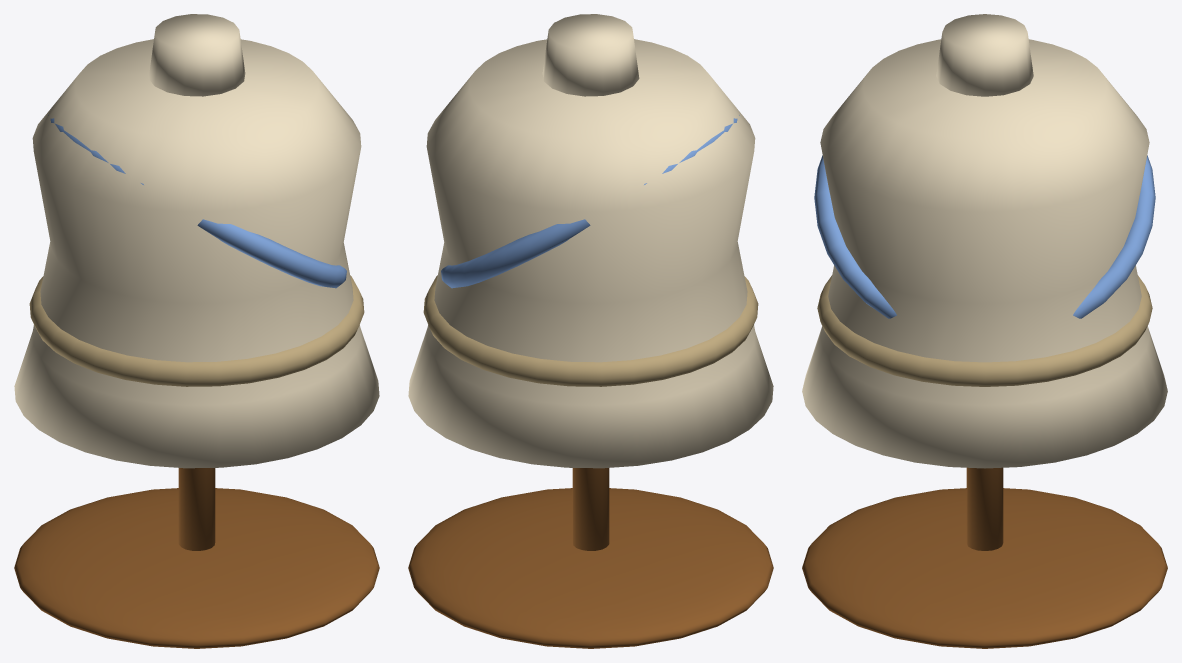
Rendered from armor-0.glb.
3 views of the same model, side by side, from view 1: azimuth 30°, elevation 25°; view 2: azimuth 150°, elevation 25°; view 3: azimuth 270°, elevation 25° (orthographic).
Visible parts, largest first — view 1: Neck, Base, Belt, Sash; view 2: Neck, Base, Belt, Sash; view 3: Neck, Base, Belt, Sash.
Boxes of the visible parts, x1=… form: Neck: x1=14, y1=14, x2=379, y2=468; Base: x1=14, y1=468, x2=379, y2=648; Belt: x1=29, y1=275, x2=364, y2=386; Sash: x1=48, y1=115, x2=346, y2=288; Neck: x1=408, y1=14, x2=773, y2=468; Base: x1=408, y1=468, x2=773, y2=648; Belt: x1=423, y1=275, x2=758, y2=386; Sash: x1=441, y1=115, x2=739, y2=288; Neck: x1=802, y1=14, x2=1167, y2=468; Base: x1=802, y1=467, x2=1167, y2=648; Belt: x1=817, y1=275, x2=1152, y2=386; Sash: x1=814, y1=155, x2=1155, y2=318.
Size of the model in its own units: 0.6003 by 1.02 by 0.6003.
